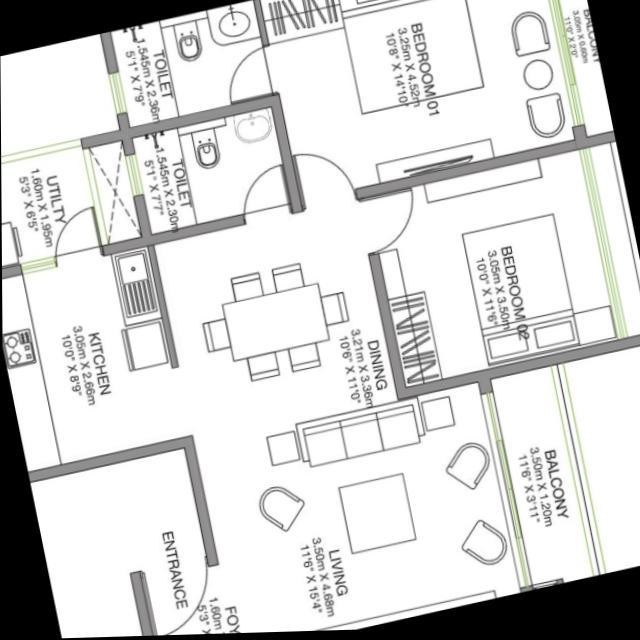Balcony-Sitout: (490, 369, 597, 593), (556, 0, 613, 139)
Bedroom: (367, 153, 618, 389)
Bedroom with Toilet: (106, 0, 577, 209)
Dining: (187, 249, 362, 401)
Enterance-Foyer: (138, 554, 246, 637)
Kitchen: (2, 248, 184, 471)
Living: (193, 386, 519, 635)
Toilet: (130, 110, 291, 236), (110, 2, 271, 127)
Utility: (1, 147, 101, 267)
